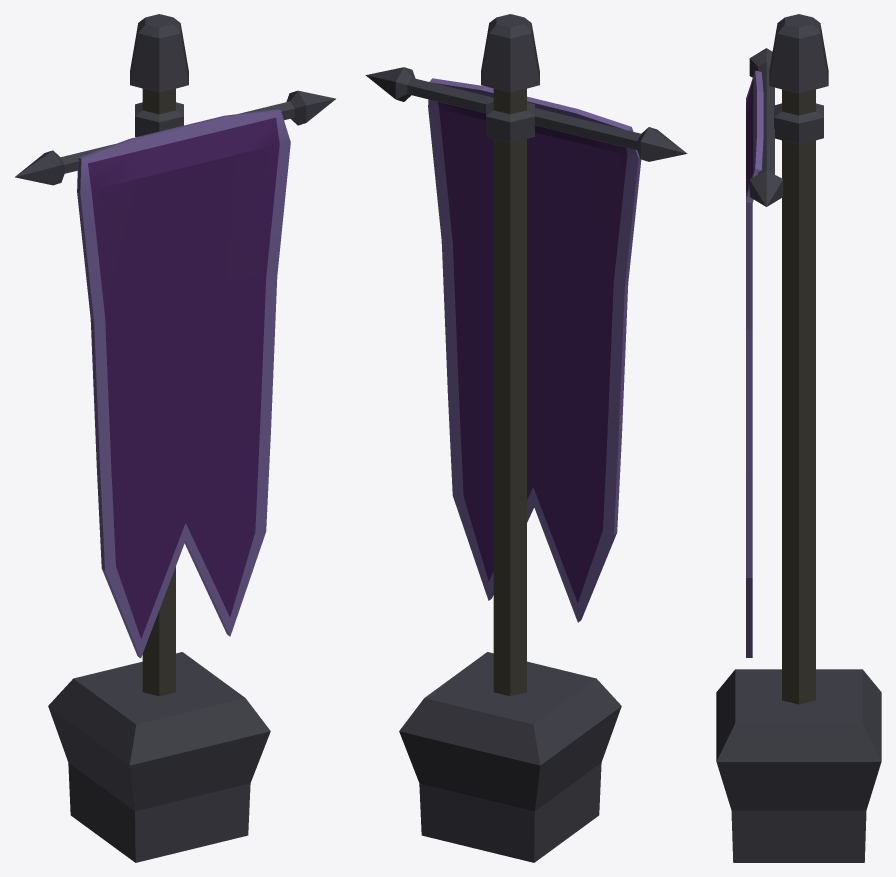
Rendered from banner.glb.
The picture shows the model from 3 angles, left to right: view 1: azimuth 30°, elevation 25°; view 2: azimuth 150°, elevation 25°; view 3: azimuth 270°, elevation 25°; orthographic projection.
Parts seen in each view (by area): view 1: polySurface98; view 2: polySurface98; view 3: polySurface98.
Part boxes in pixels (x1=…): polySurface98: x1=15, y1=14, x2=335, y2=862; polySurface98: x1=365, y1=14, x2=687, y2=862; polySurface98: x1=716, y1=14, x2=881, y2=862.
Bounding box in the file's own units: 2.99 × 7.14 × 1.31.
Materials: 1 (1 with a texture image).
